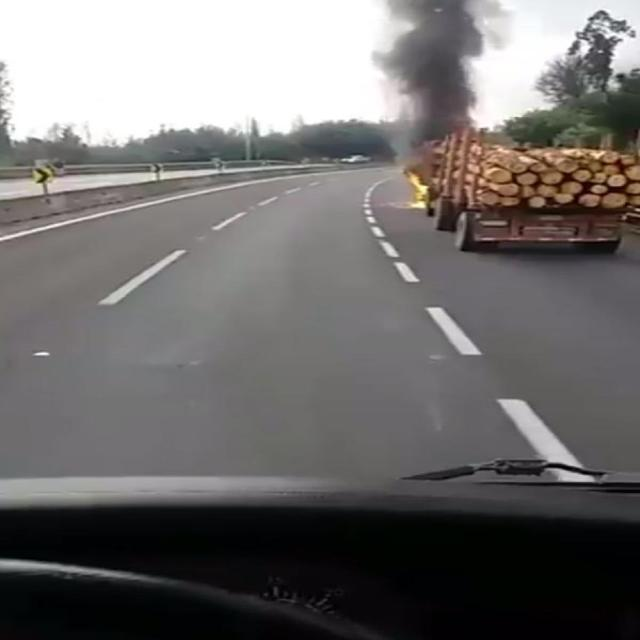Fire: (403, 170, 429, 209)
